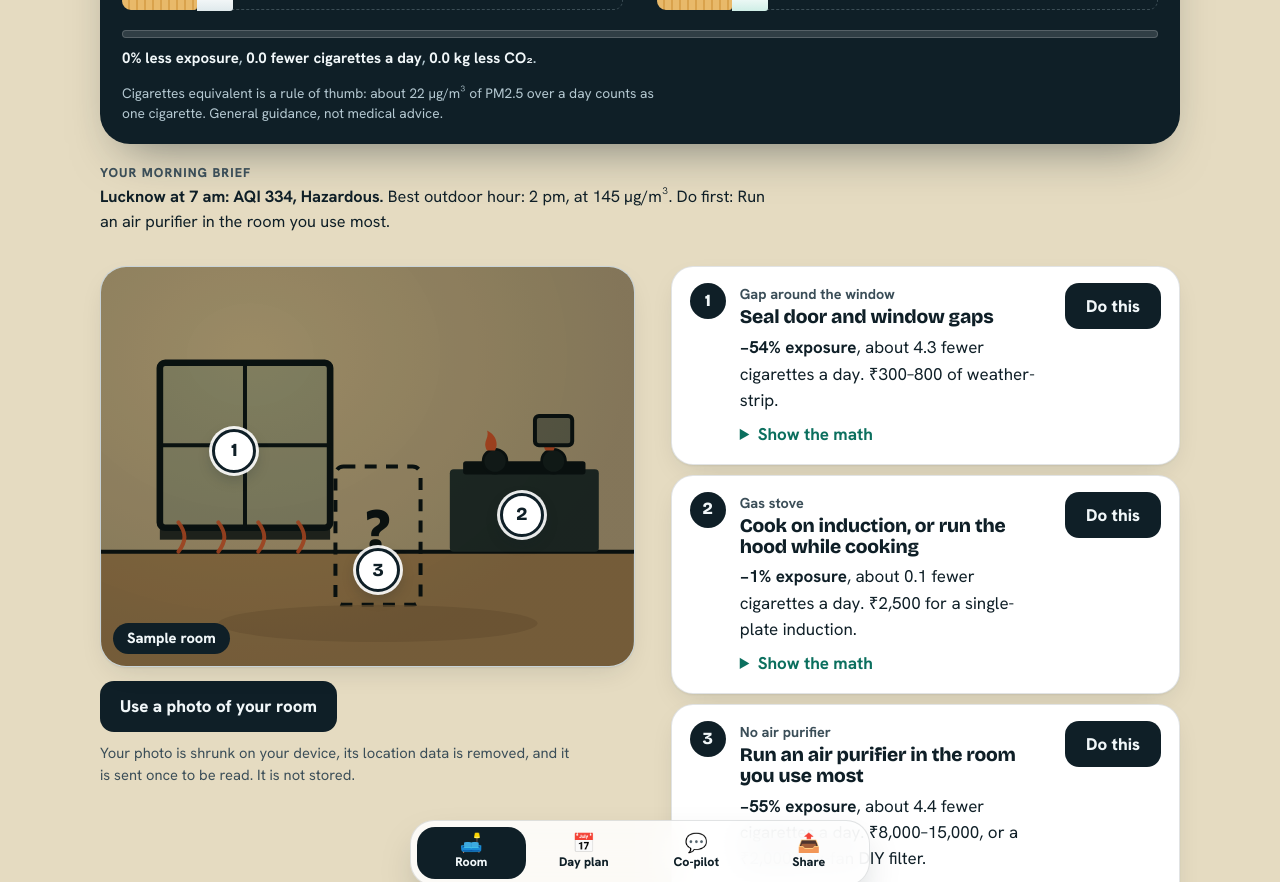
Test: AirWise home › switching city clears the plan
(page scrolled)
Click the button named "Fix 1:". click: (234, 451)
box: [212,429,256,473]
(page scrolled)
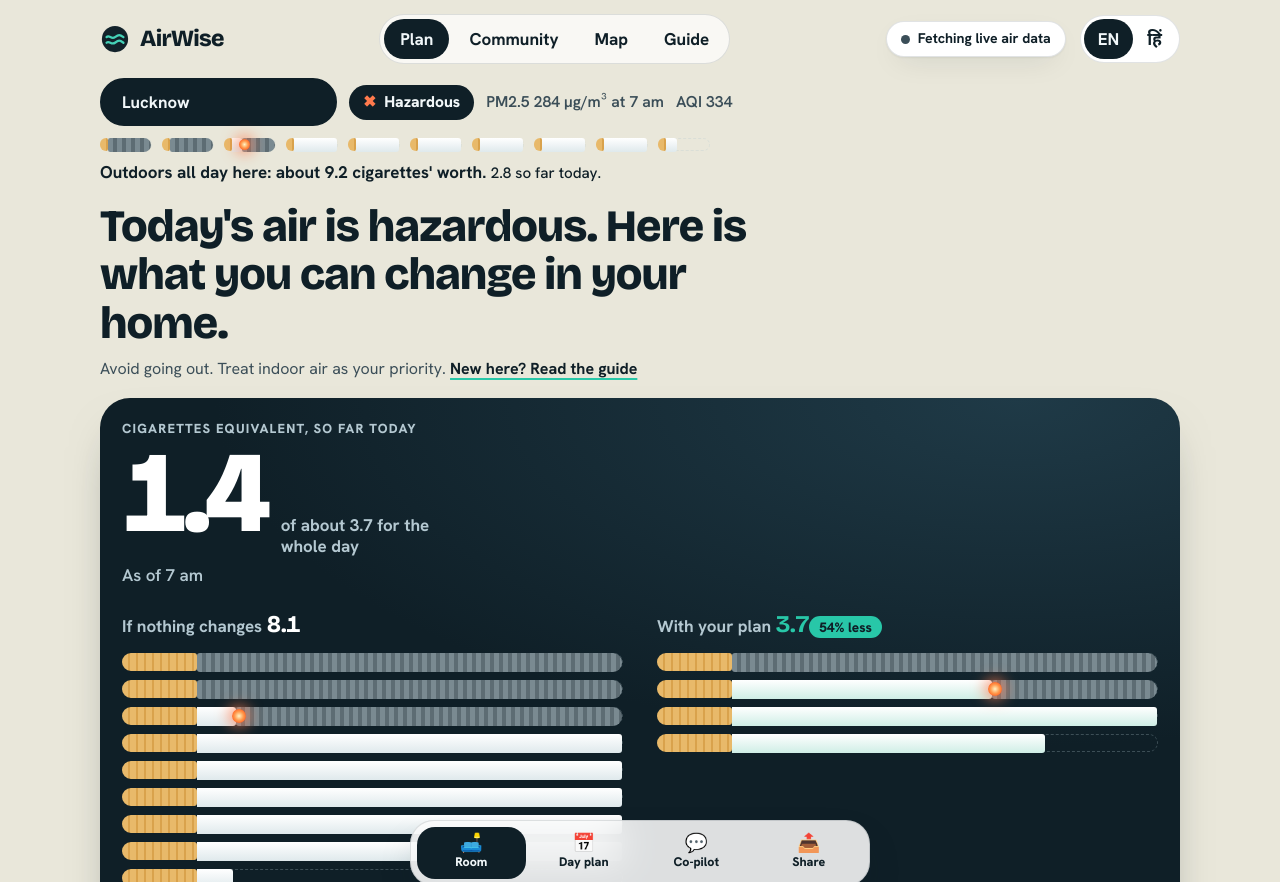
Replace the text in the dropdown named "city" with "Bengaluru". click: (218, 102)
box: [100,78,337,126]
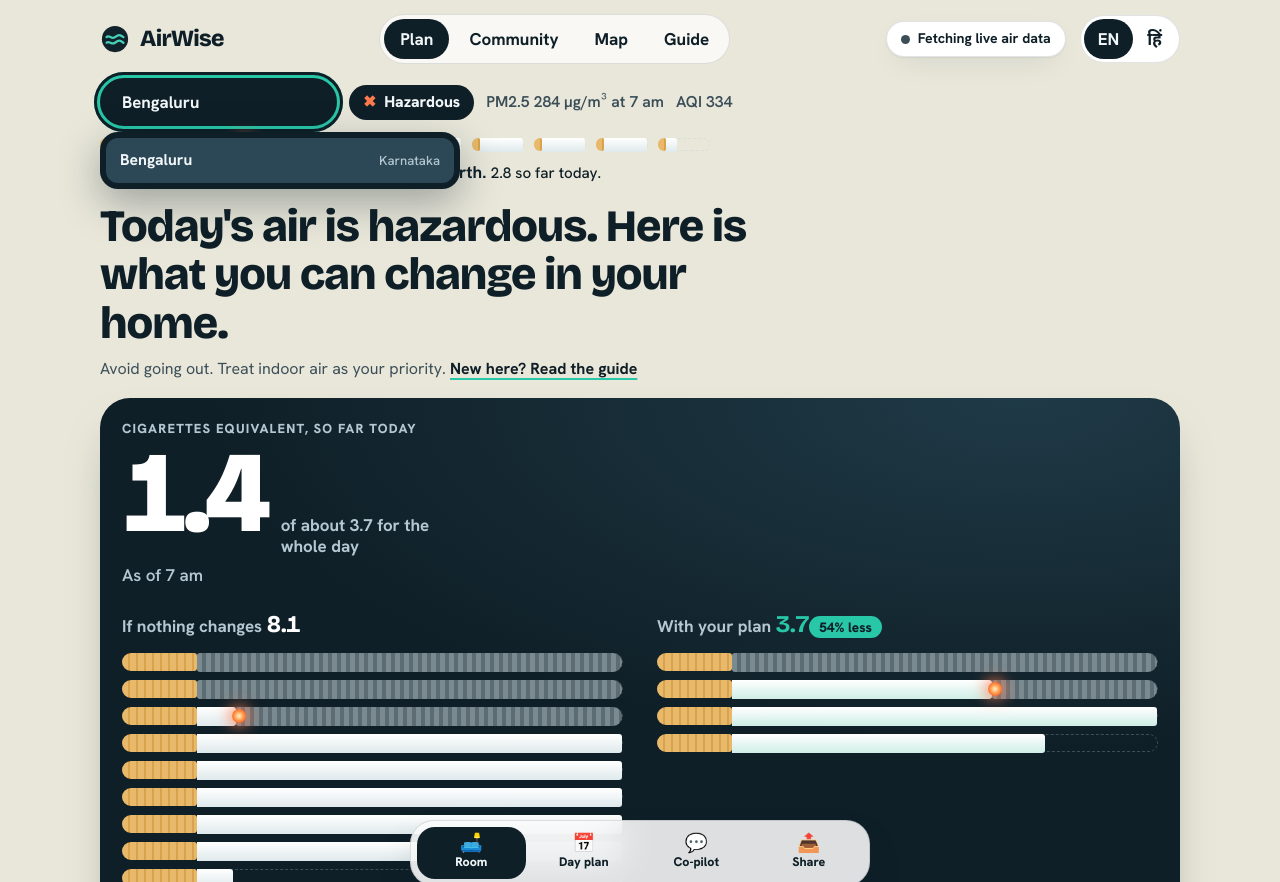
Click the option "Bengaluru Karnataka". click: (156, 160)
box: [106,138,454,183]
(page scrolled)
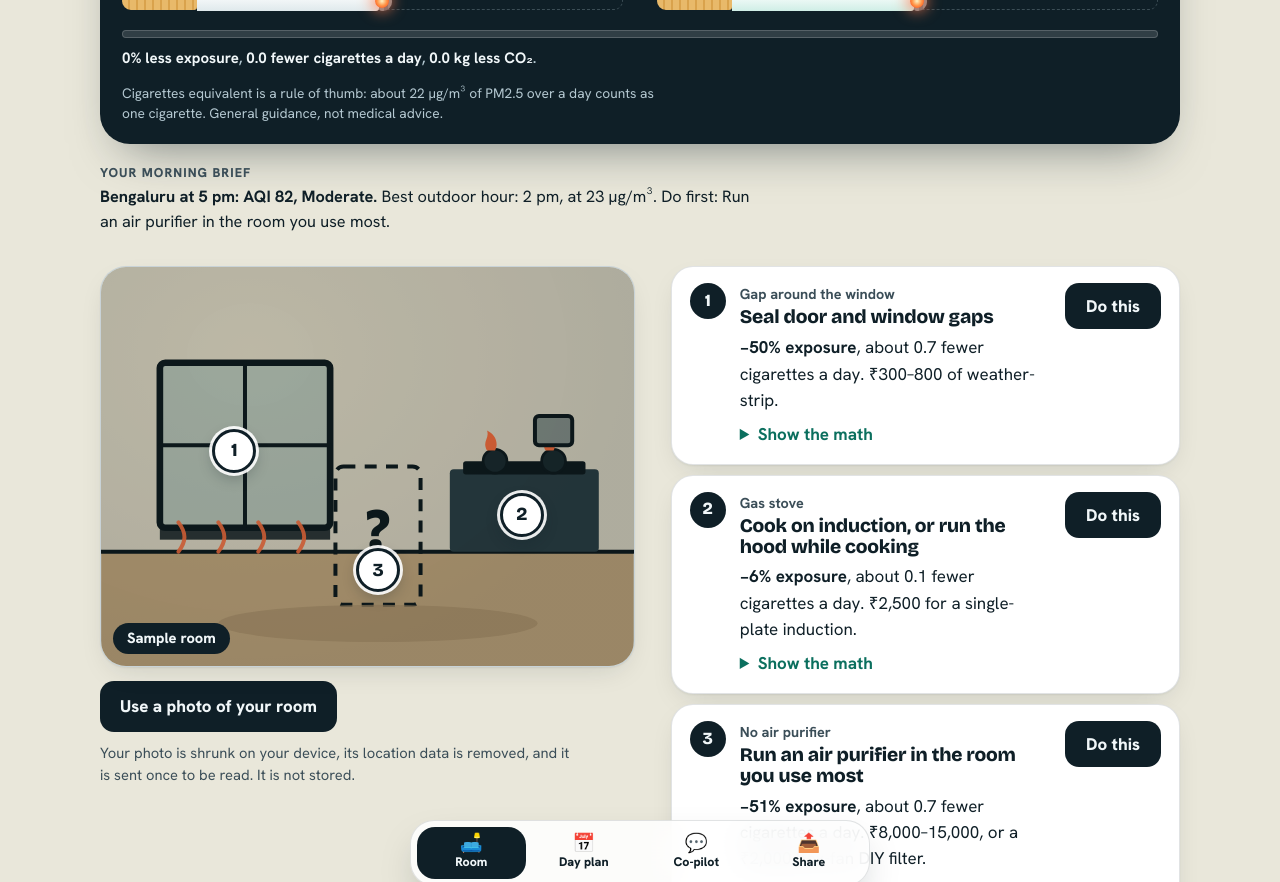
Now the button named "Fix 1:" is not pressed, box [212,429,256,473]
